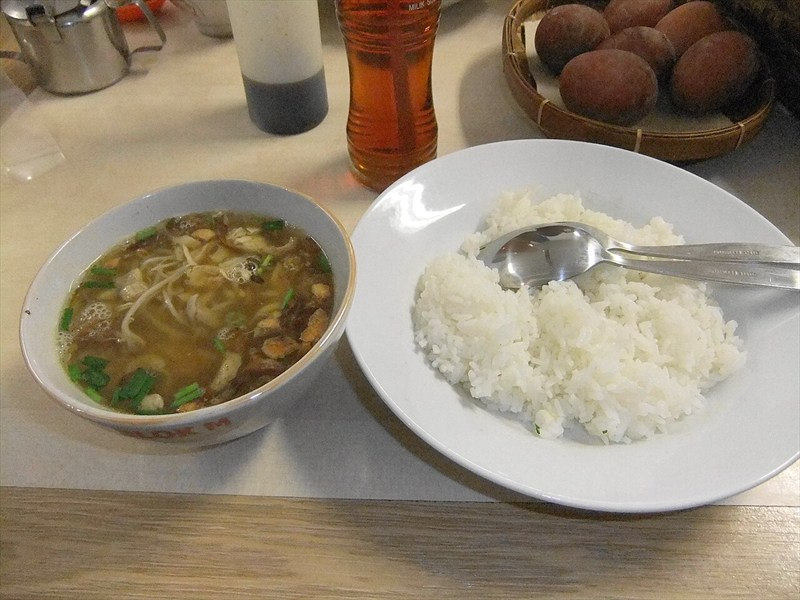Soto Ayam: (82, 19, 698, 521)
